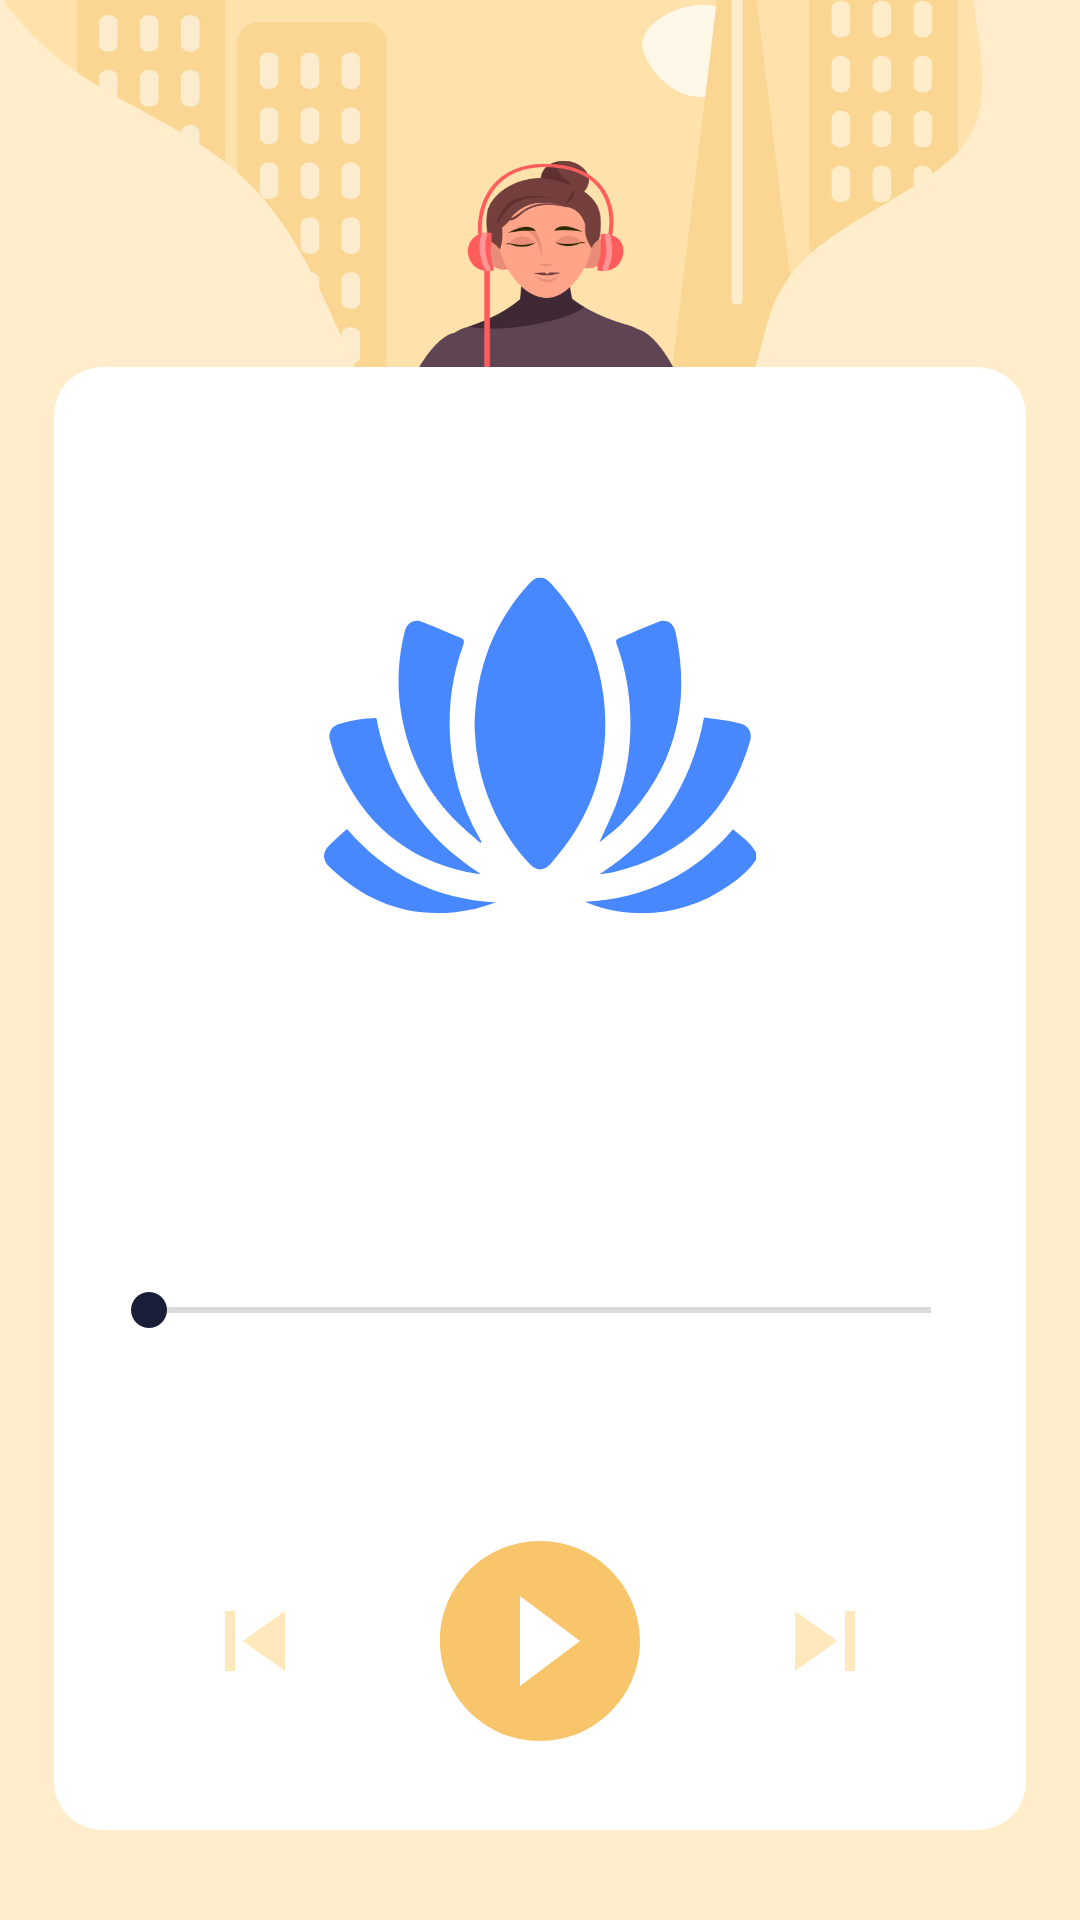

Locate icon controls on the screen. Image size 1080w x 1920h, boxes as (x1=x1, y1=y1, x2=x2, y2=y2).
play sound: (x1=440, y1=1541, x2=640, y2=1741)
skip next sound: (x1=795, y1=1611, x2=855, y2=1671)
skip previous sound: (x1=225, y1=1611, x2=285, y2=1671)
